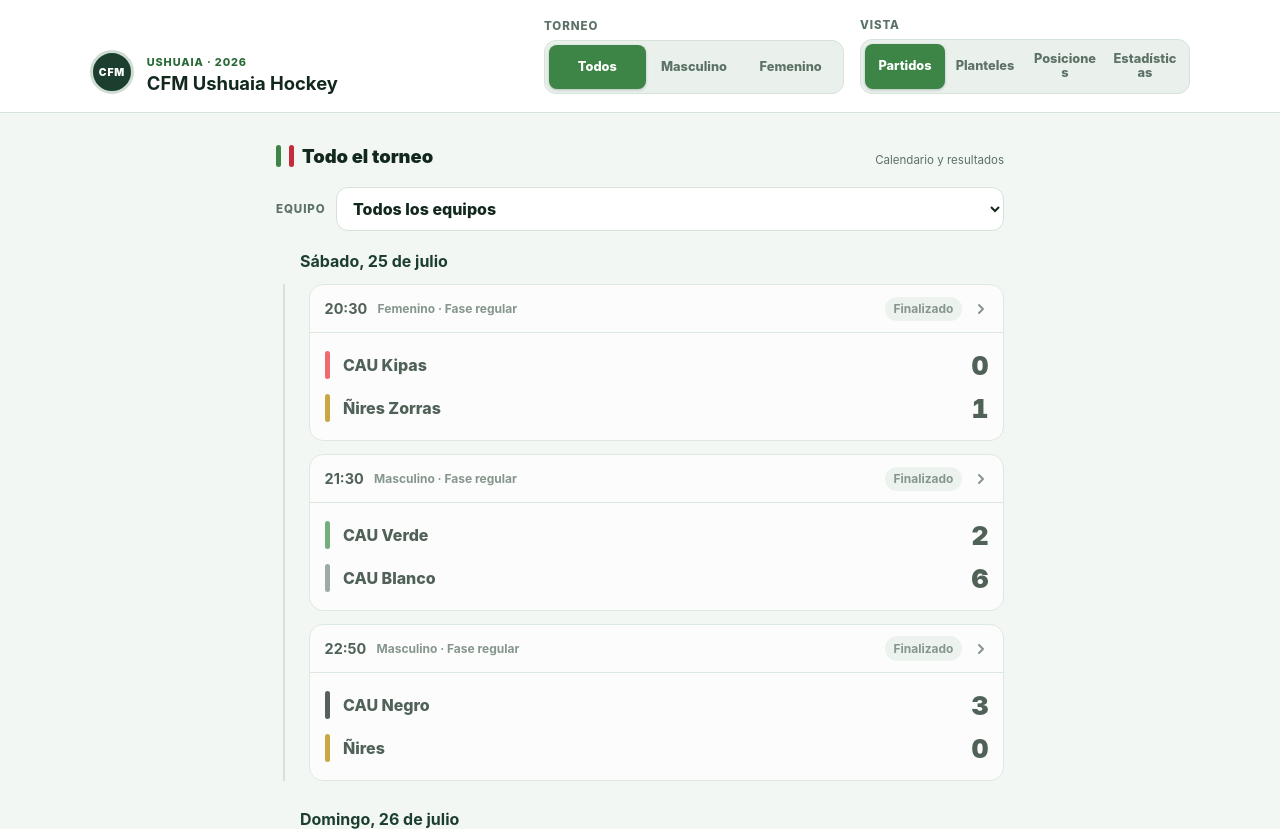
Test: what the public site subscribes to › should render the squads without any snapshot at all
Click the button "Planteles": click(985, 66) [945,44,1025,89]
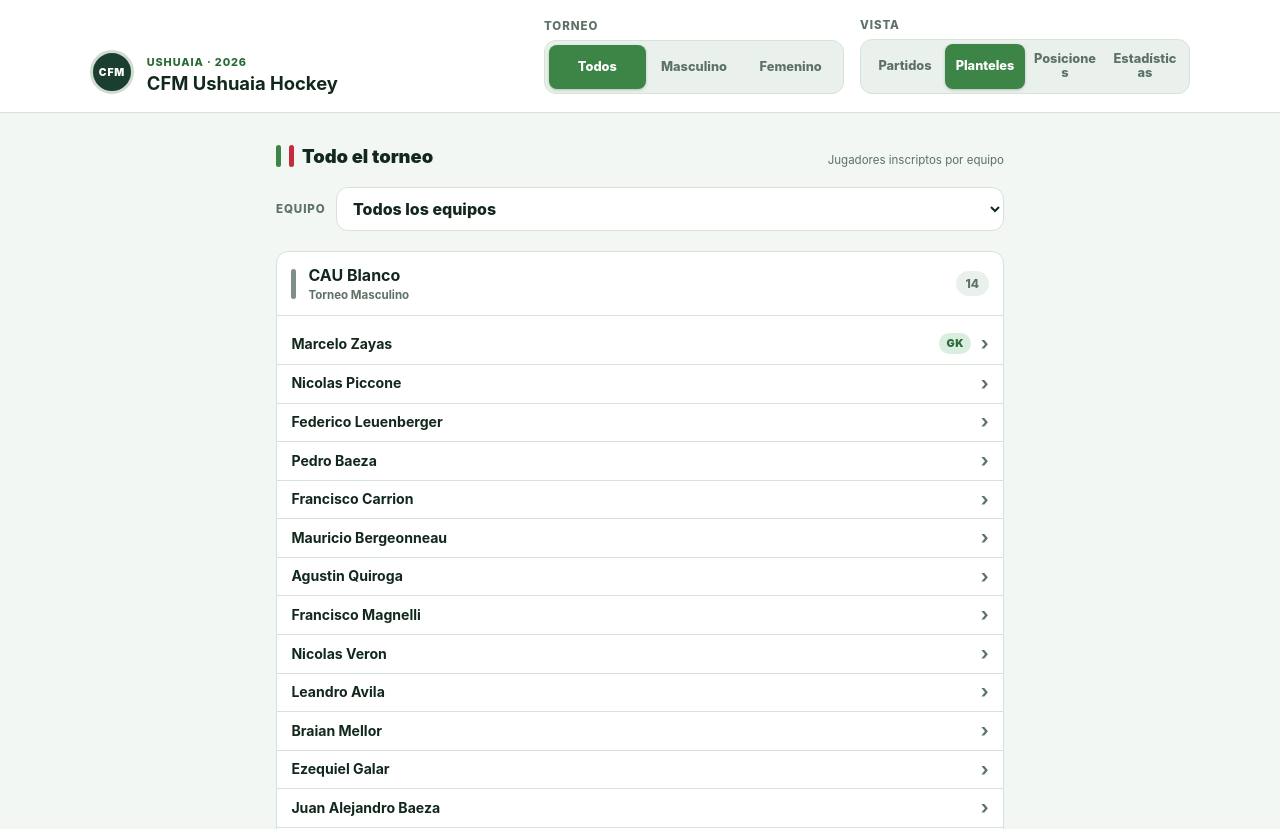
Expected: the text "Marcelo Zayas" is shown, [291,335,392,352]
